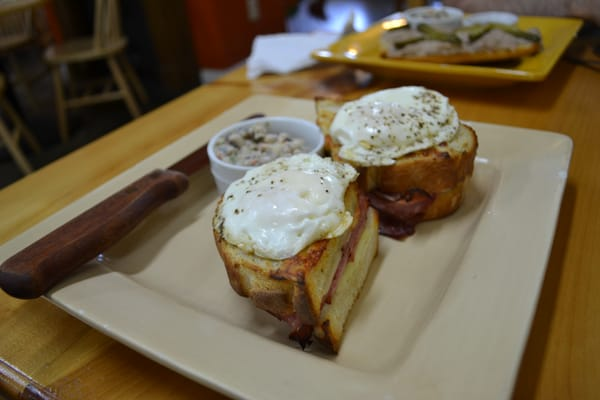sandwich: (0, 168, 190, 299)
soup: (212, 153, 380, 354), (324, 85, 477, 235)
sushi: (207, 114, 324, 197)
